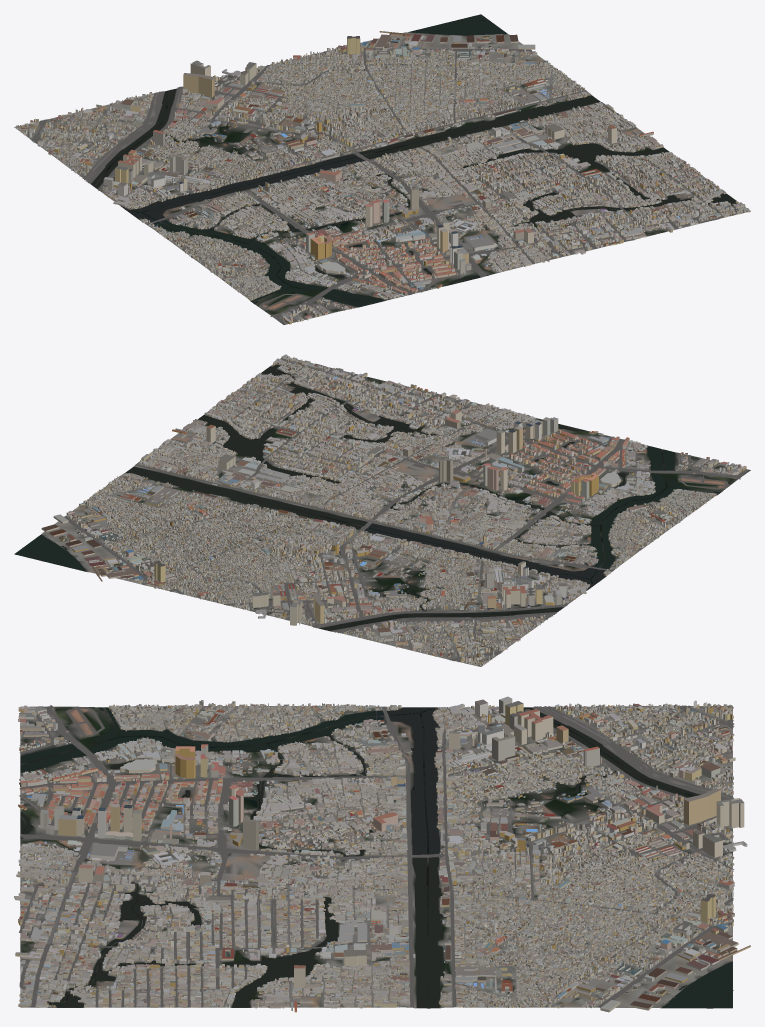
3 views of the same model, one above another, from view 1: azimuth 30°, elevation 25°; view 2: azimuth 150°, elevation 25°; view 3: azimuth 270°, elevation 25° (orthographic). The views are drawn at different scales.
Visible parts, largest first — view 1: buildings, ground, water, roads; view 2: buildings, ground, roads, water; view 3: buildings, ground, roads, water.
Boxes of the visible parts, bbox=[...] form: buildings: bbox=[15, 31, 750, 324]; ground: bbox=[14, 20, 750, 324]; water: bbox=[90, 14, 736, 306]; roads: bbox=[27, 39, 744, 324]; buildings: bbox=[41, 354, 746, 666]; ground: bbox=[14, 358, 750, 666]; roads: bbox=[64, 359, 748, 663]; water: bbox=[14, 364, 720, 631]; buildings: bbox=[14, 696, 750, 1012]; ground: bbox=[20, 705, 732, 1008]; roads: bbox=[19, 705, 734, 1007]; water: bbox=[20, 707, 733, 1008].
Size of the model in its own units: 2862 by 126 by 2897.
